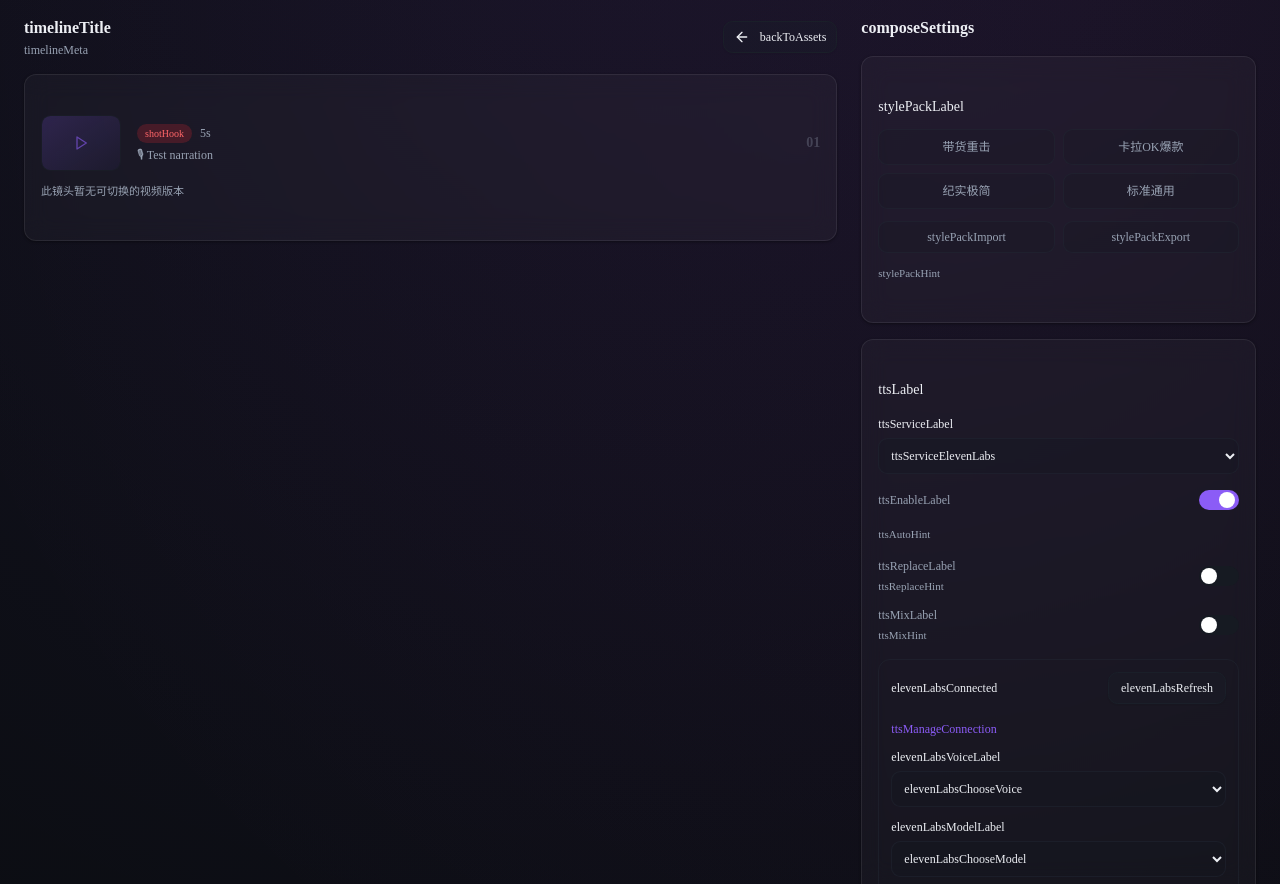
settings-owned voice services › aborts a pending preview when the ElevenLabs model changes and ignores its late audio response
Step 1. Select "ttsServiceElevenLabs" in the dropdown labelled "ttsServiceLabel" → (1059, 456), box [878,438,1239,474]
Step 2. Select "My cloned voice · elevenLabsClonedVoice" in the dropdown labelled "elevenLabsVoiceLabel" → (1059, 789), box [891,771,1226,807]
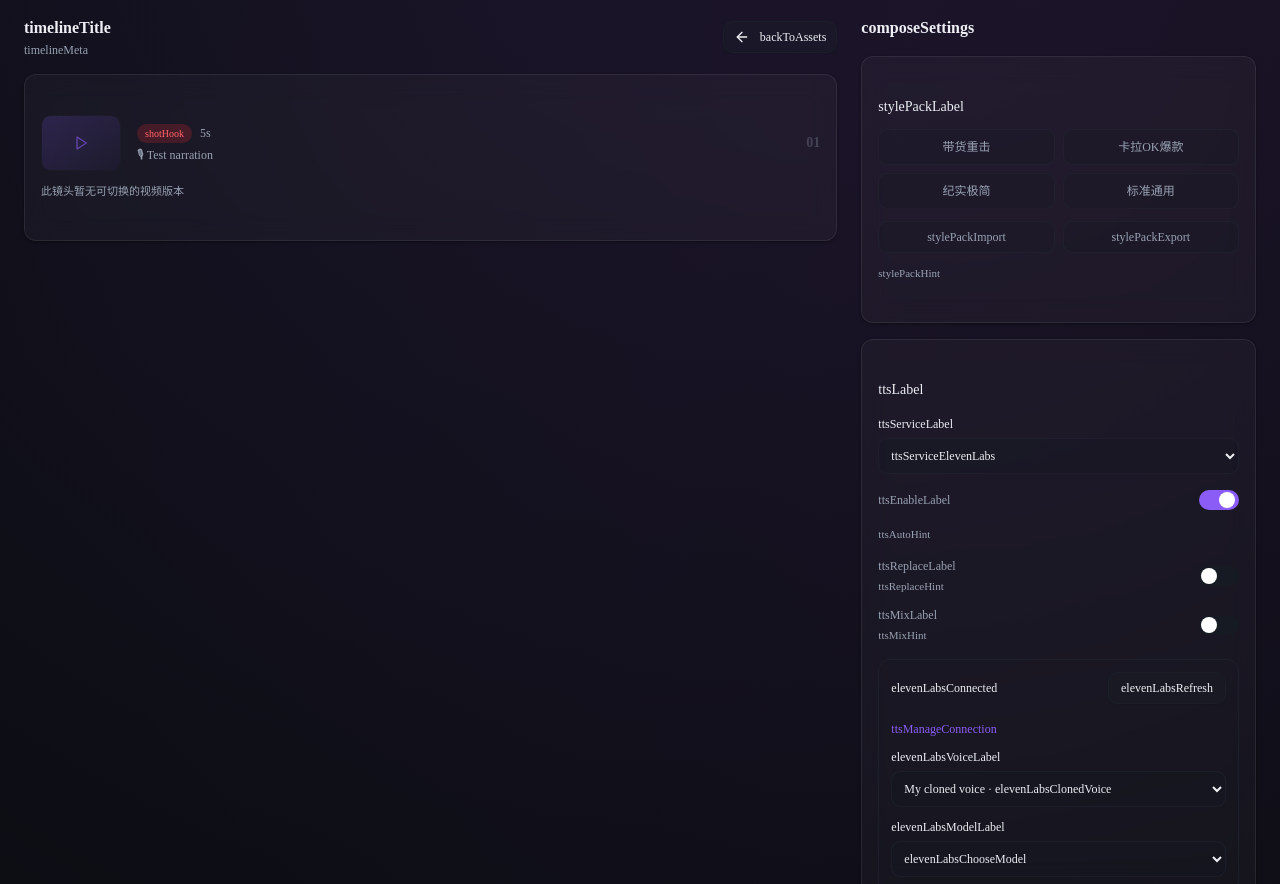
Step 3. Select "Eleven Multilingual v2" in the dropdown labelled "elevenLabsModelLabel" → (1059, 859), box [891,841,1226,877]
(page scrolled)
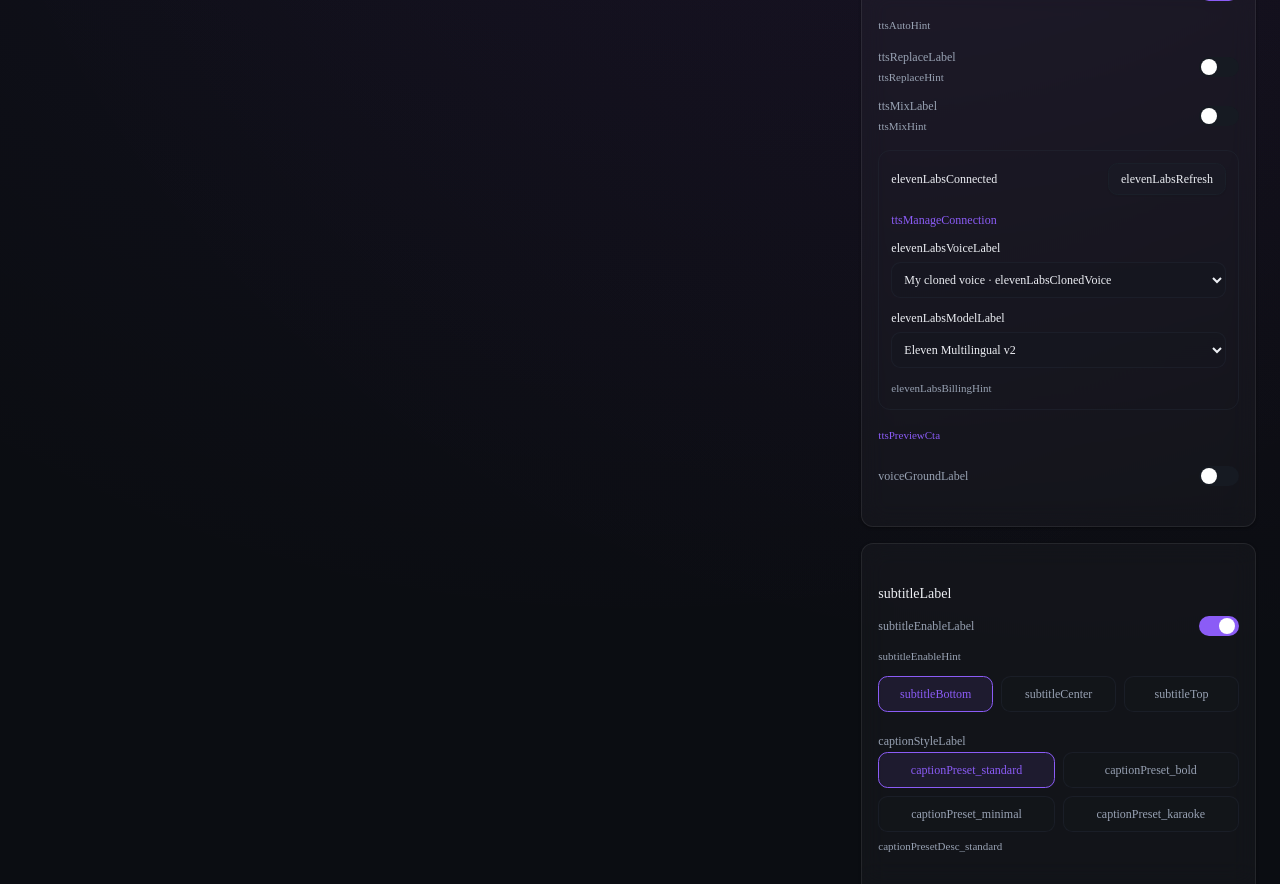
Step 4. Click the button "ttsPreviewCta" → (909, 435), box [878,426,940,443]
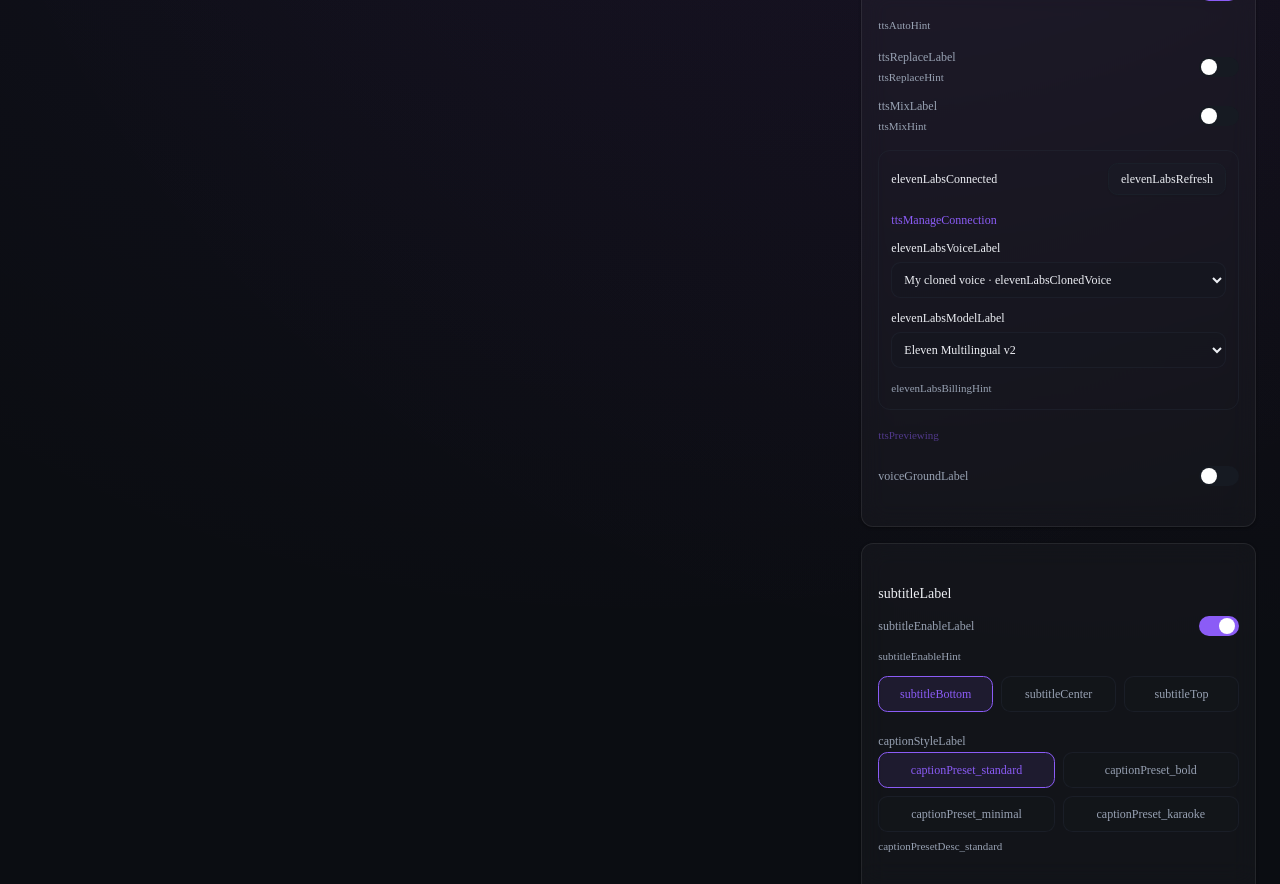
expect the button "ttsPreviewing" is disabled: met, box [878,426,939,443]
Step 5. Select "Eleven v3" in the dropdown labelled "elevenLabsModelLabel" → (1059, 350), box [891,332,1226,368]
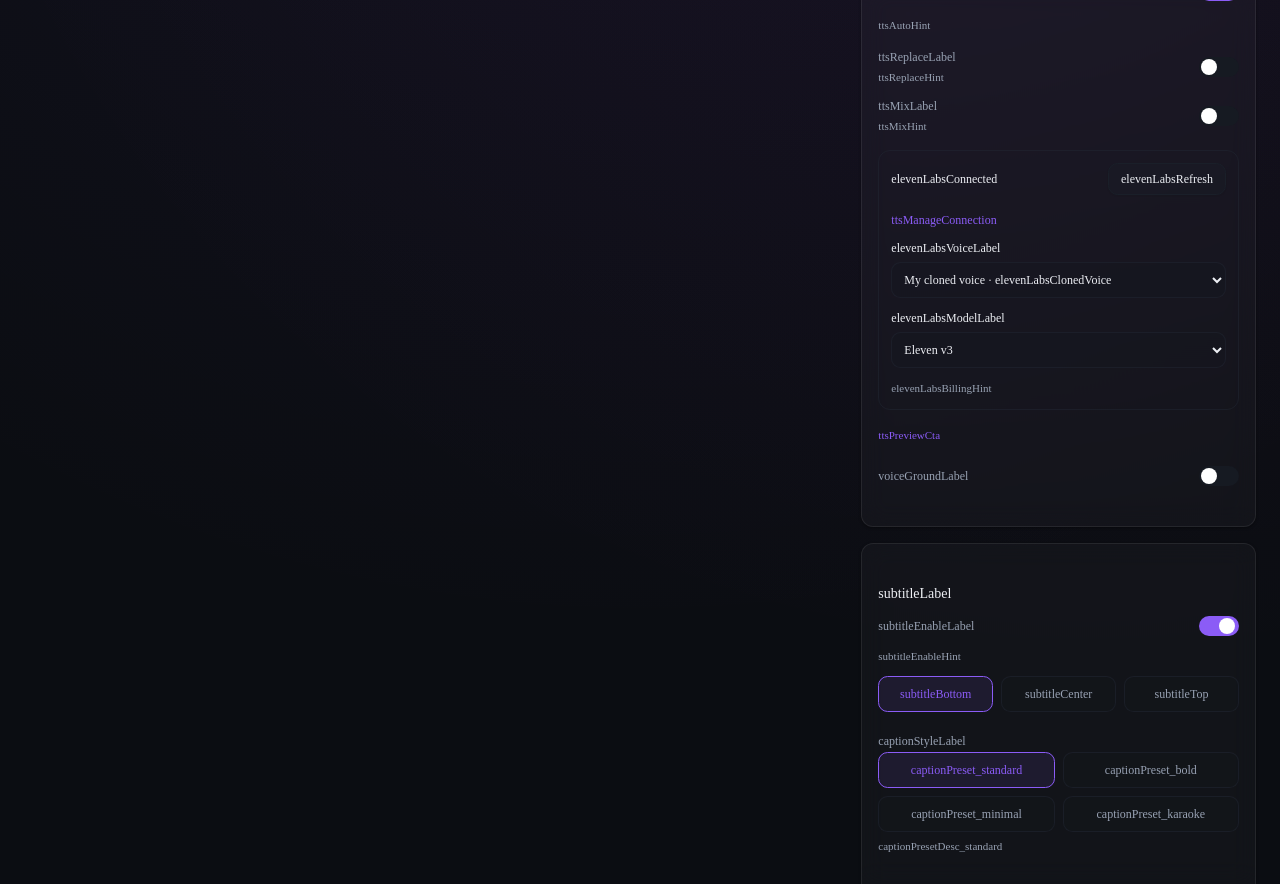
expect the button "ttsPreviewCta" is enabled: met, box [878,426,940,443]
